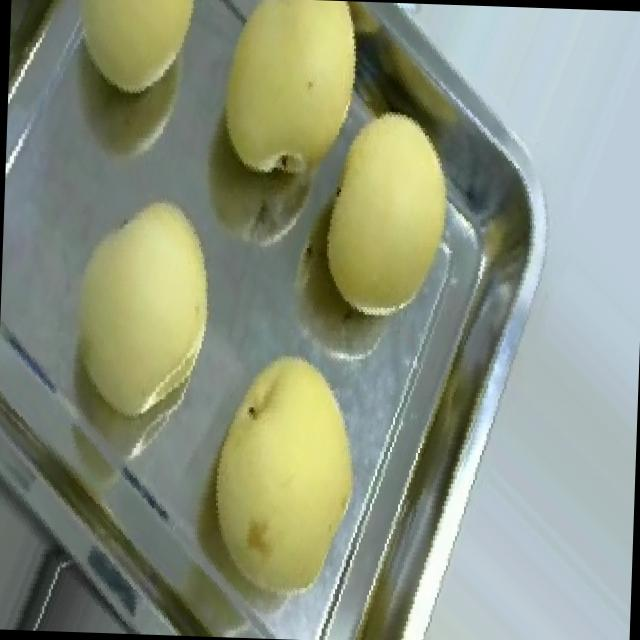Fruit: (170, 328, 393, 628), (48, 175, 243, 441), (292, 93, 479, 340), (198, 0, 391, 200), (45, 0, 225, 113)
